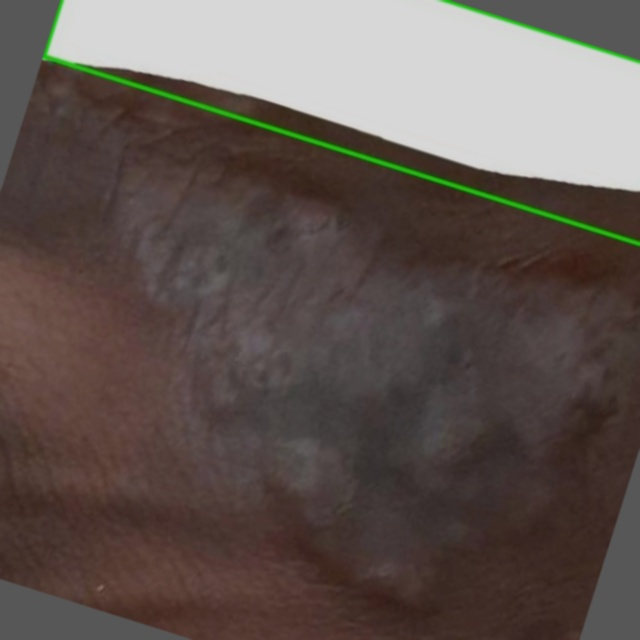Seborrheic Dermatitis: (43, 0, 639, 245)
